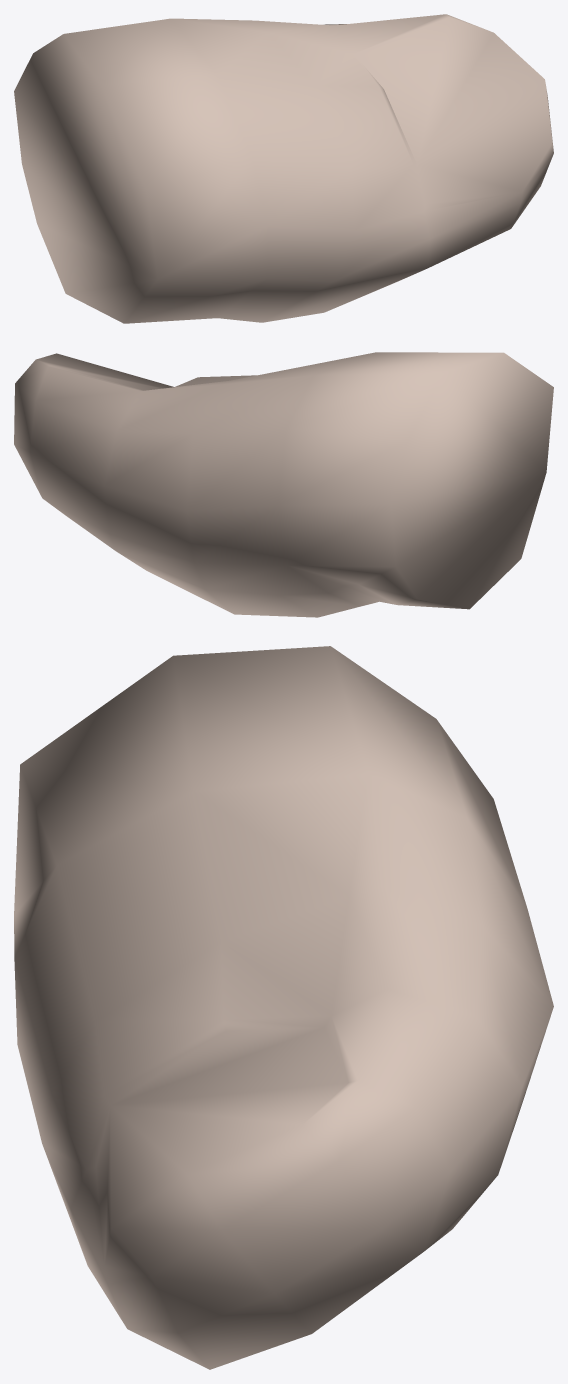
File: LThumb2ndPhalange.dae
3 views of the same model, one above another, from view 1: azimuth 30°, elevation 25°; view 2: azimuth 150°, elevation 25°; view 3: azimuth 270°, elevation 25° (orthographic). The views are drawn at different scales.
Parts seen in each view (by area): view 1: ShapeIndexedFaceSet; view 2: ShapeIndexedFaceSet; view 3: ShapeIndexedFaceSet.
Boxes of the visible parts, bbox=[...] form: ShapeIndexedFaceSet: bbox=[14, 14, 553, 323]; ShapeIndexedFaceSet: bbox=[14, 352, 553, 617]; ShapeIndexedFaceSet: bbox=[14, 646, 553, 1369].
Size of the model in its own units: 0.0332 by 0.021 by 0.0201.
